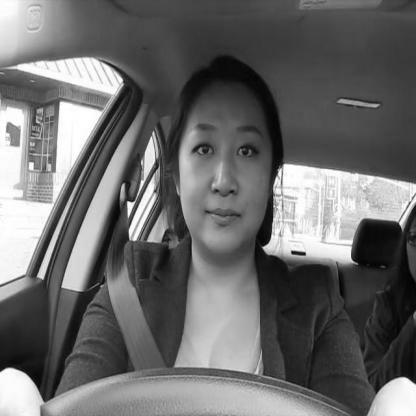seatbelt: (106, 31, 289, 392)
